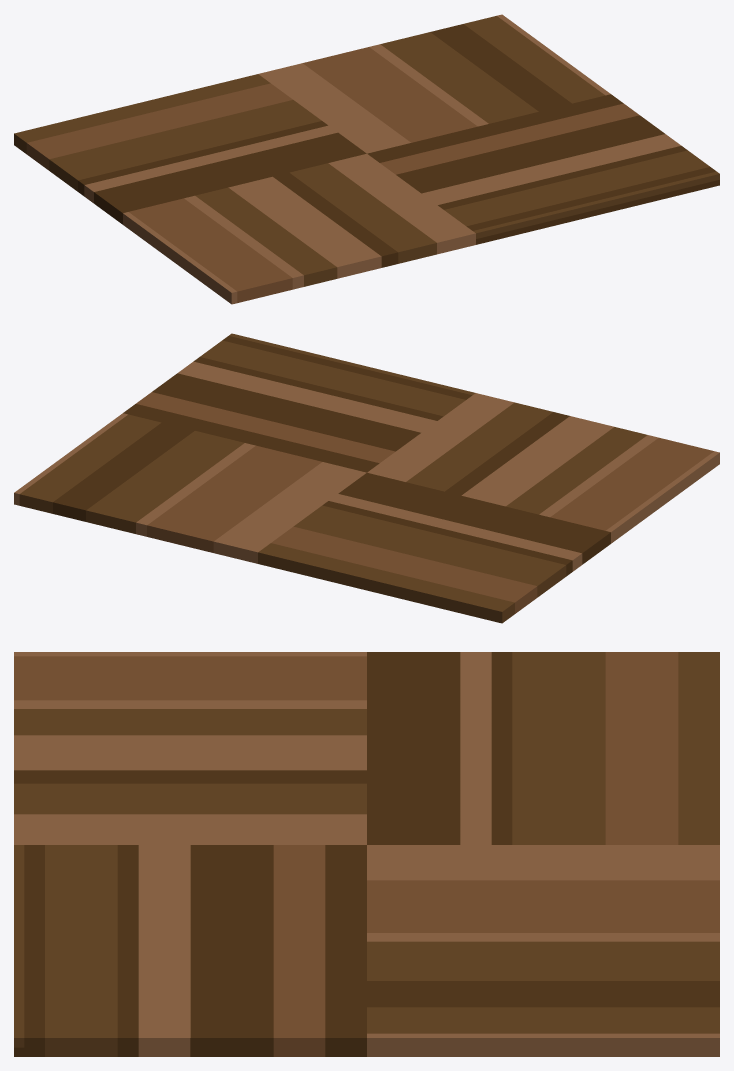
Rendered from flor.obj.
3 views of the same model, one above another, from view 1: azimuth 30°, elevation 25°; view 2: azimuth 150°, elevation 25°; view 3: azimuth 270°, elevation 25° (orthographic). The views are drawn at different scales.
Bounding box in the file's own units: 8.8 × 0.2 × 6.8.
Materials: 1 (1 with a texture image).
